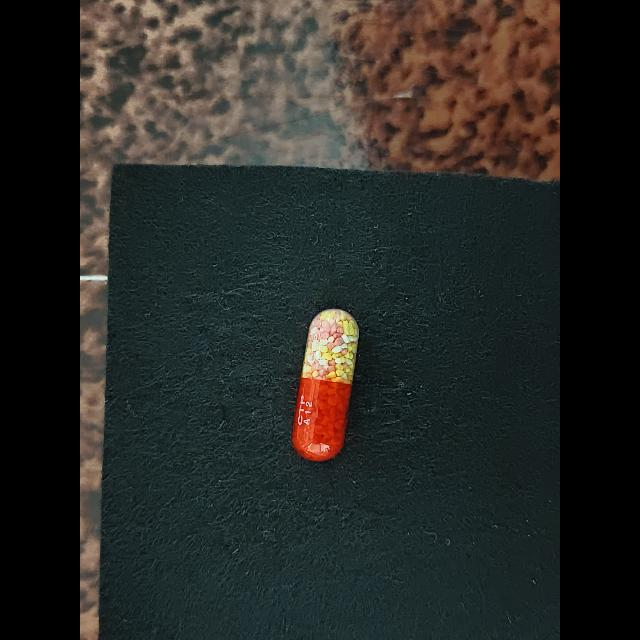Intact Capsule: (292, 308, 359, 461)
